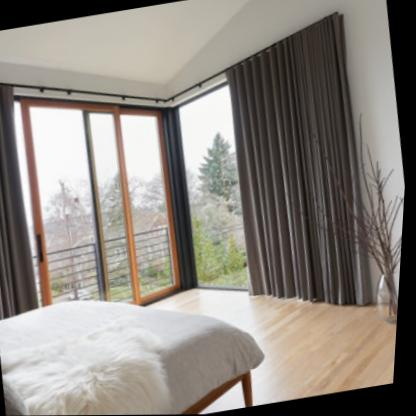Curtains: (225, 16, 360, 306), (0, 84, 42, 321)
Window: (19, 97, 185, 308)
